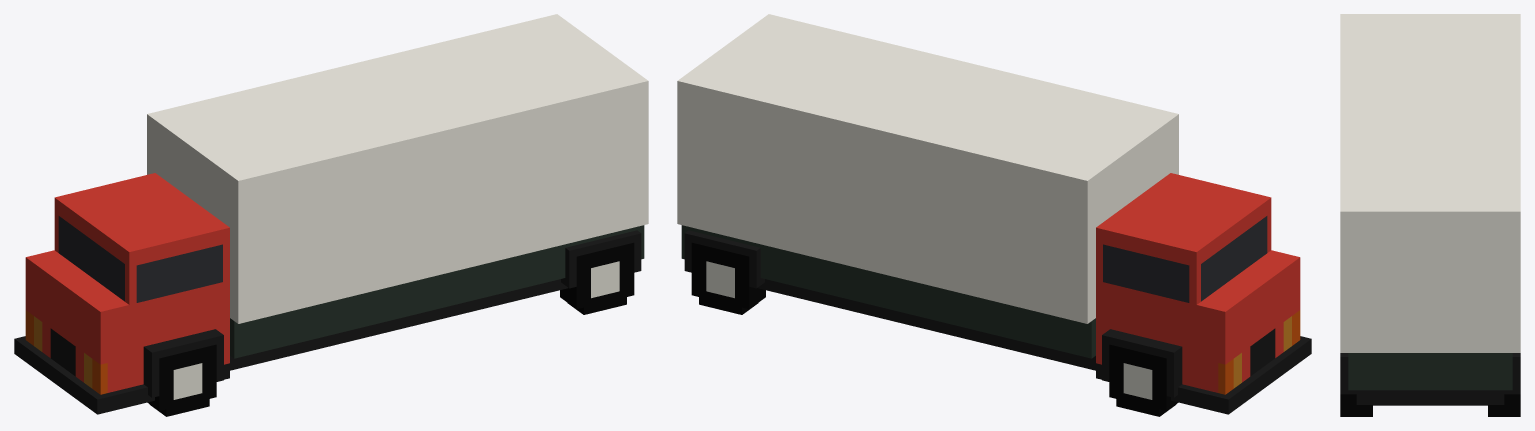
The model's file is car_red_len_4.glb.
3 views of the same model, side by side, from view 1: azimuth 30°, elevation 25°; view 2: azimuth 150°, elevation 25°; view 3: azimuth 270°, elevation 25° (orthographic).
Visible parts, largest first — view 1: _0; view 2: _0; view 3: _0.
Boxes of the visible parts, left/top/right/bottom form: _0: left=14, top=14, right=648, bottom=416; _0: left=677, top=14, right=1311, bottom=416; _0: left=1340, top=14, right=1520, bottom=416.
Size of the model in its own units: 0.114 by 0.0435 by 0.033.
